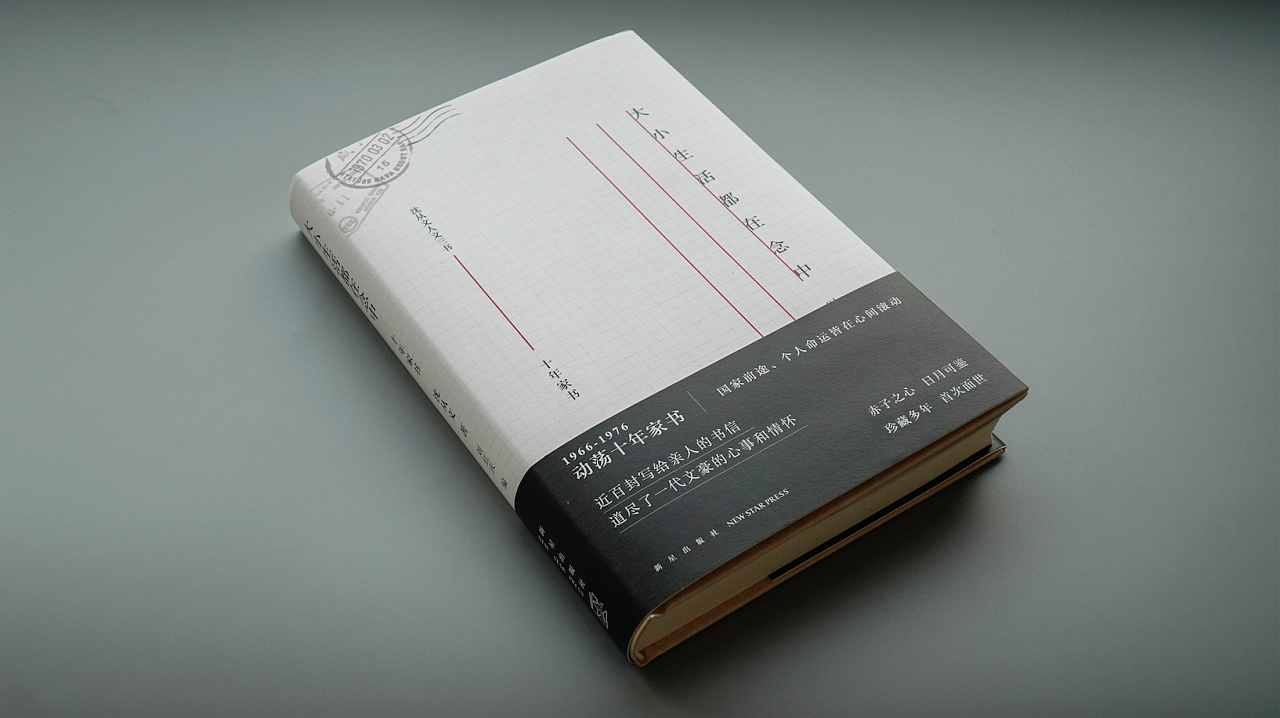book: (286, 19, 1037, 673)
